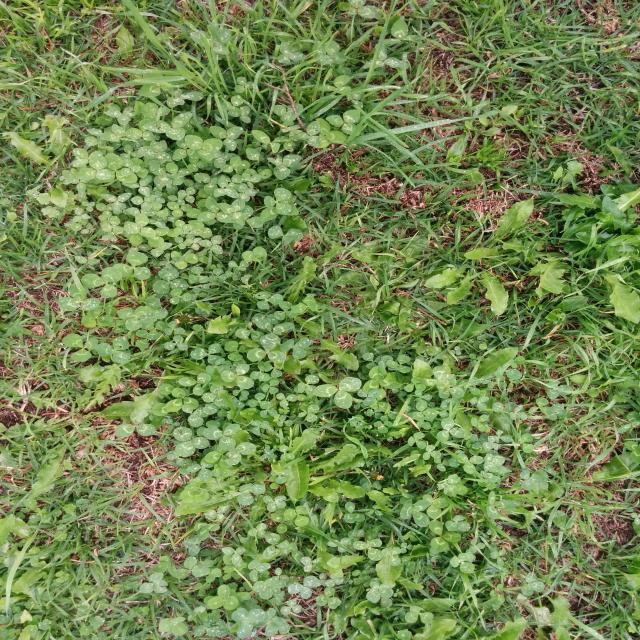Four Leaf Clover: (116, 305, 157, 331), (263, 495, 287, 512)
